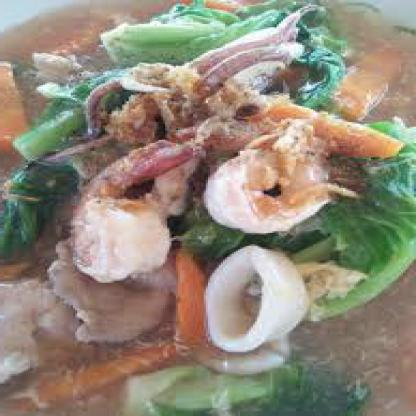Laadna: (2, 3, 415, 400)
